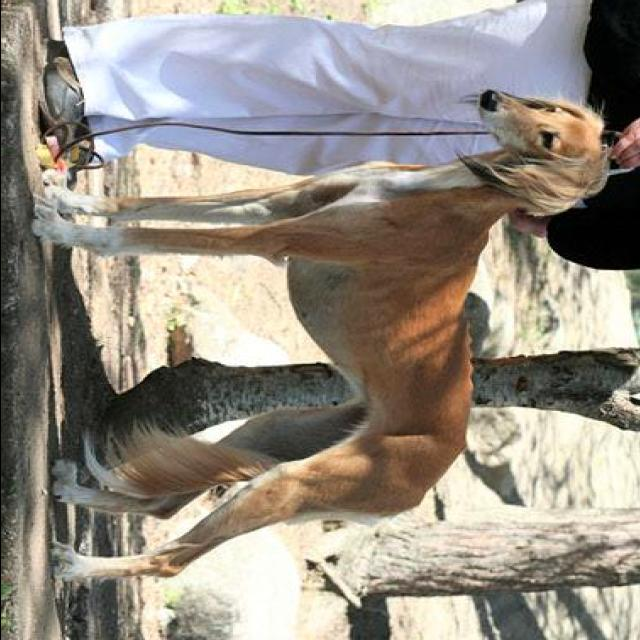saluki: (36, 87, 610, 577)
